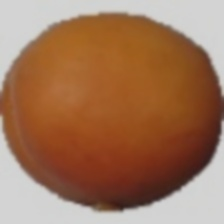apricot: (43, 12, 193, 196)
